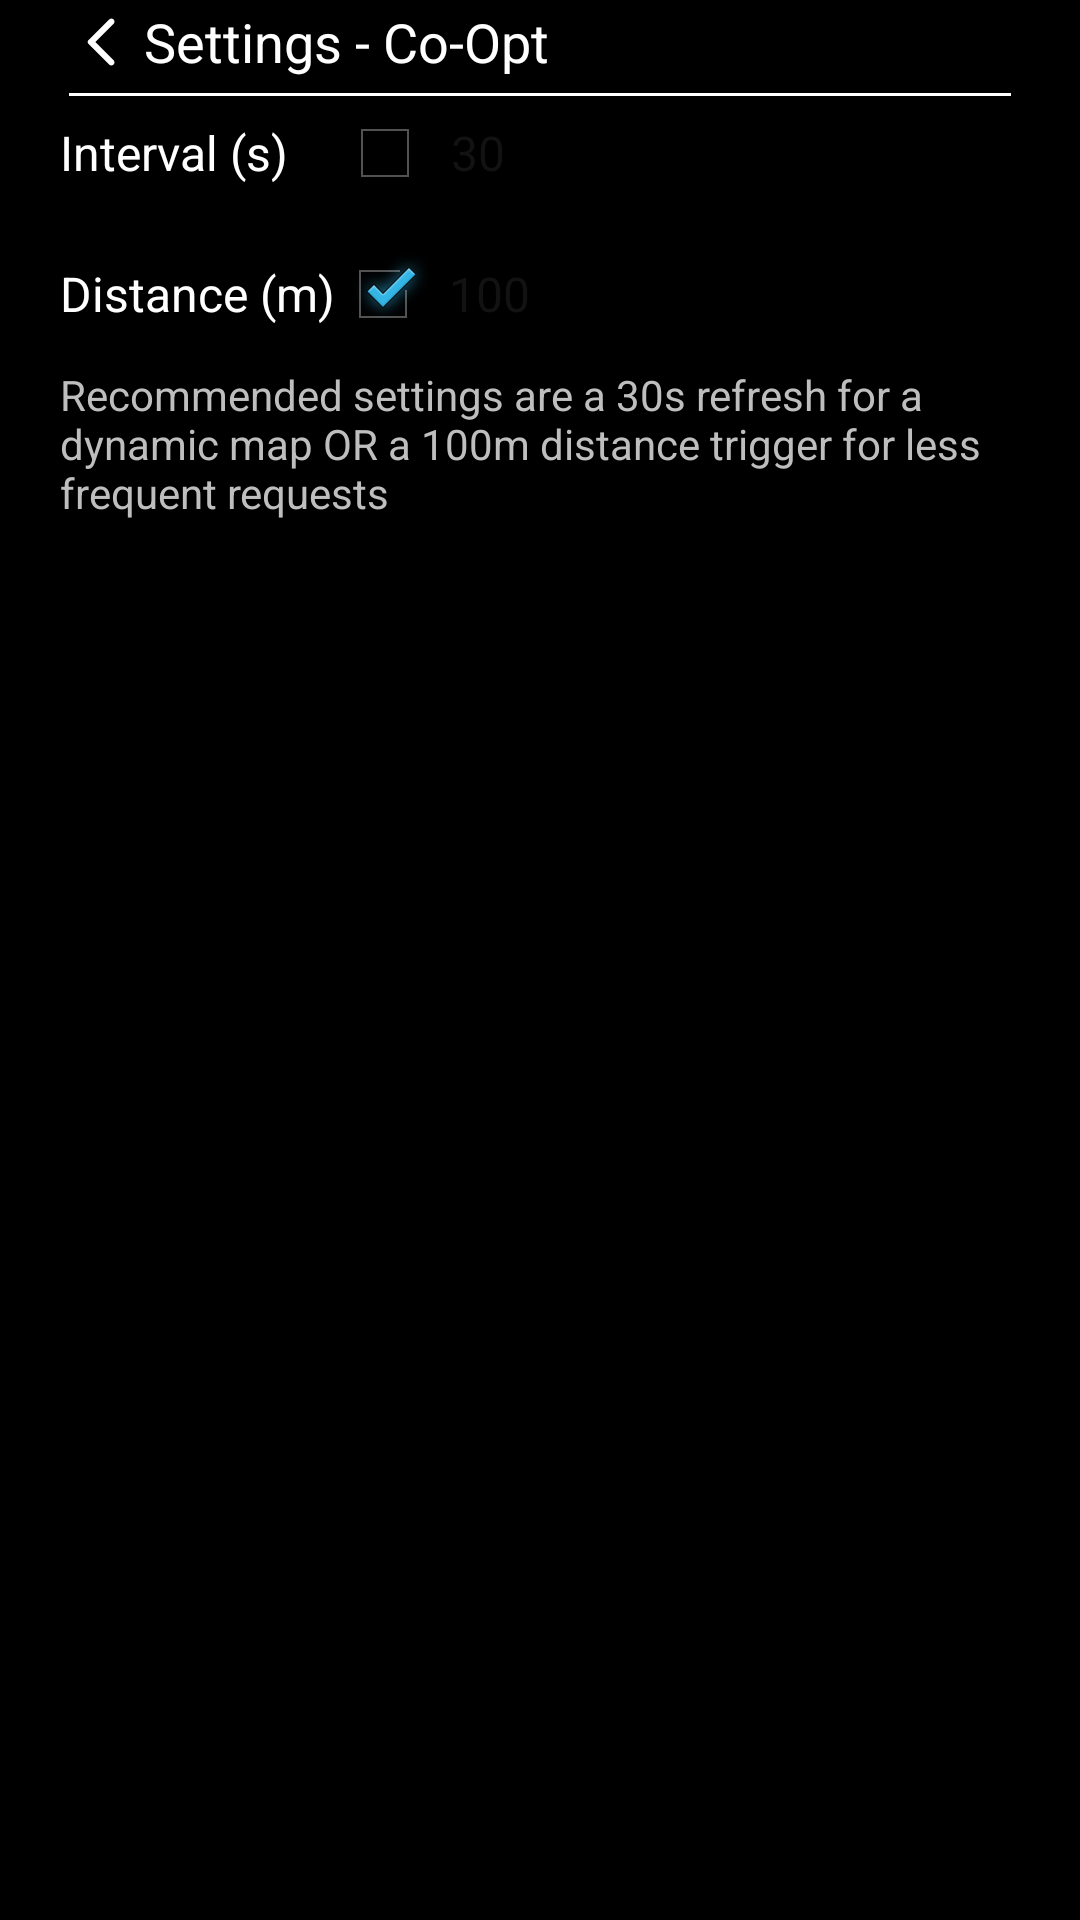

Screen size 1080×1920. Icon name, then its center in pixels as (x=x, y=y):
back arrow: (x=101, y=42)
